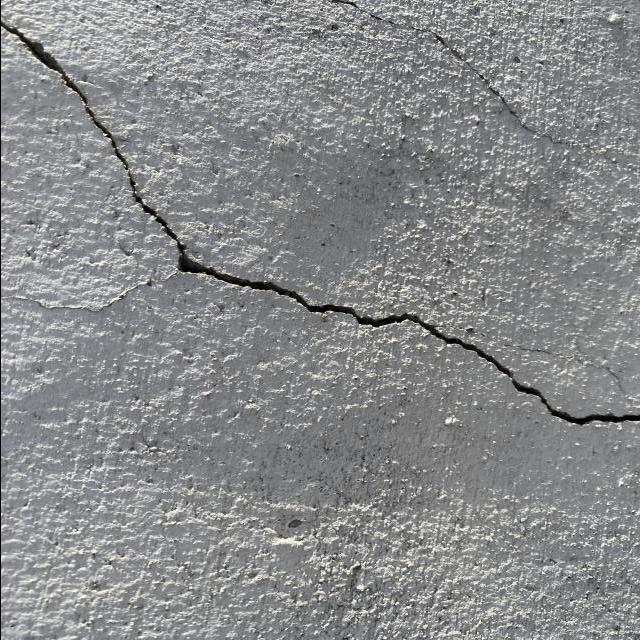SurfaceCrack: (0, 1, 639, 499)
